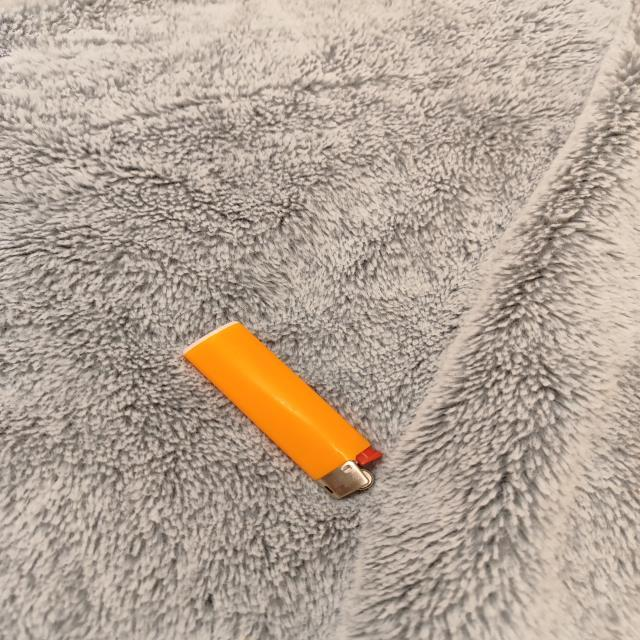lighter: (183, 323, 380, 496)
